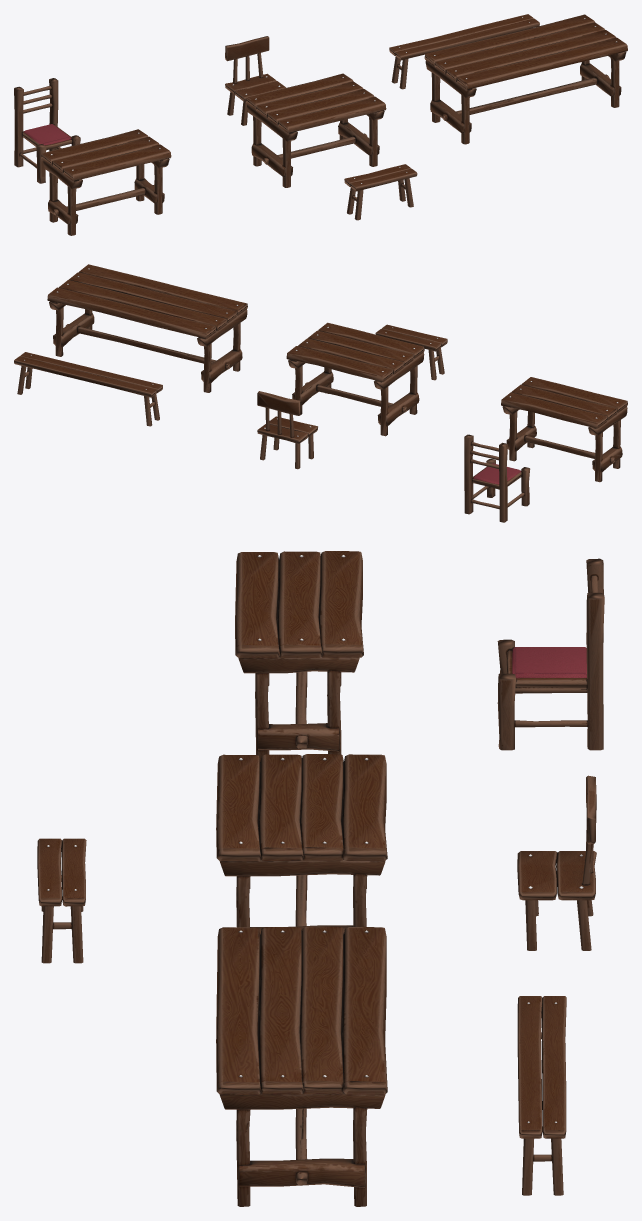
The model's file is Chair and tables.fbx.
3 views of the same model, one above another, from view 1: azimuth 30°, elevation 25°; view 2: azimuth 150°, elevation 25°; view 3: azimuth 270°, elevation 25° (orthographic). The views are drawn at different scales.
Visible parts, largest first — view 1: defaultobject; view 2: defaultobject; view 3: defaultobject.
Part boxes in pixels (<box>): defaultobject: <box>14,14,627,235</box>; defaultobject: <box>14,264,627,522</box>; defaultobject: <box>37,551,604,1206</box>.
Bounding box in the file's own units: 5257 × 709 × 2363.
